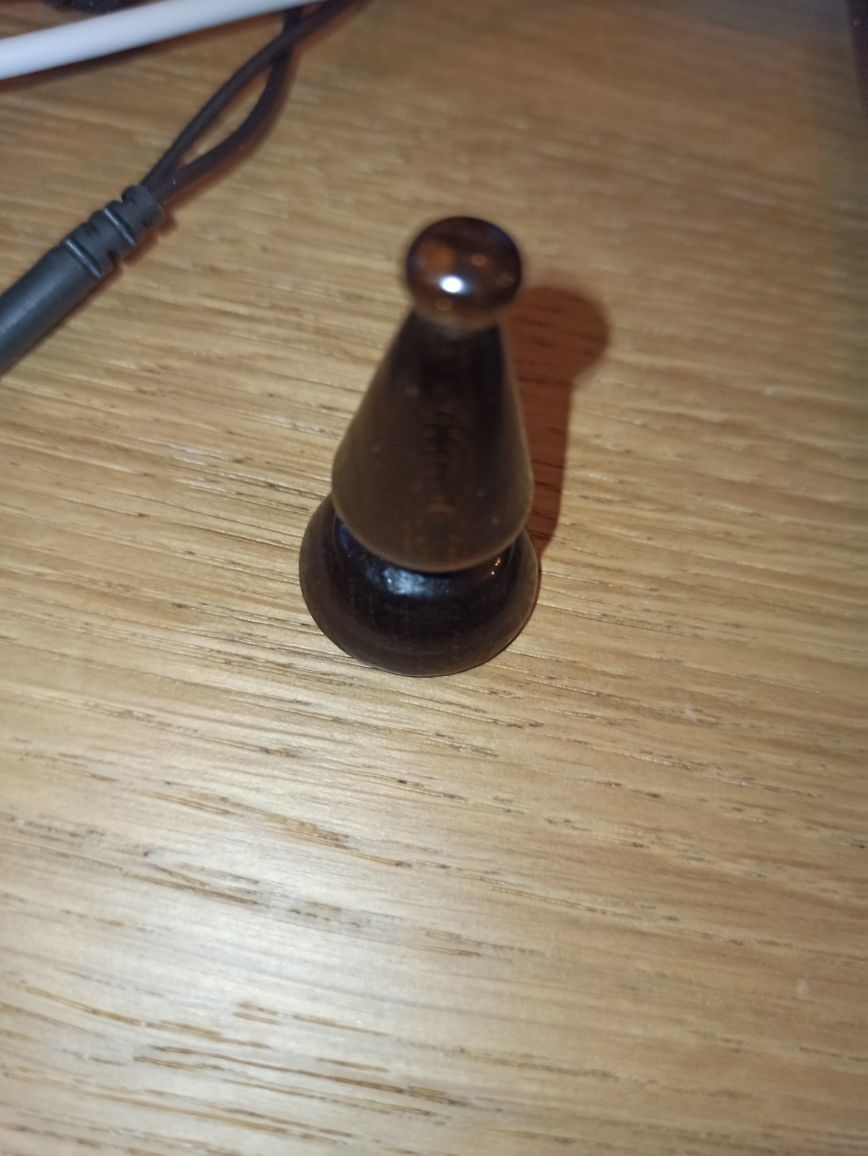bbishop: (297, 215, 542, 678)
